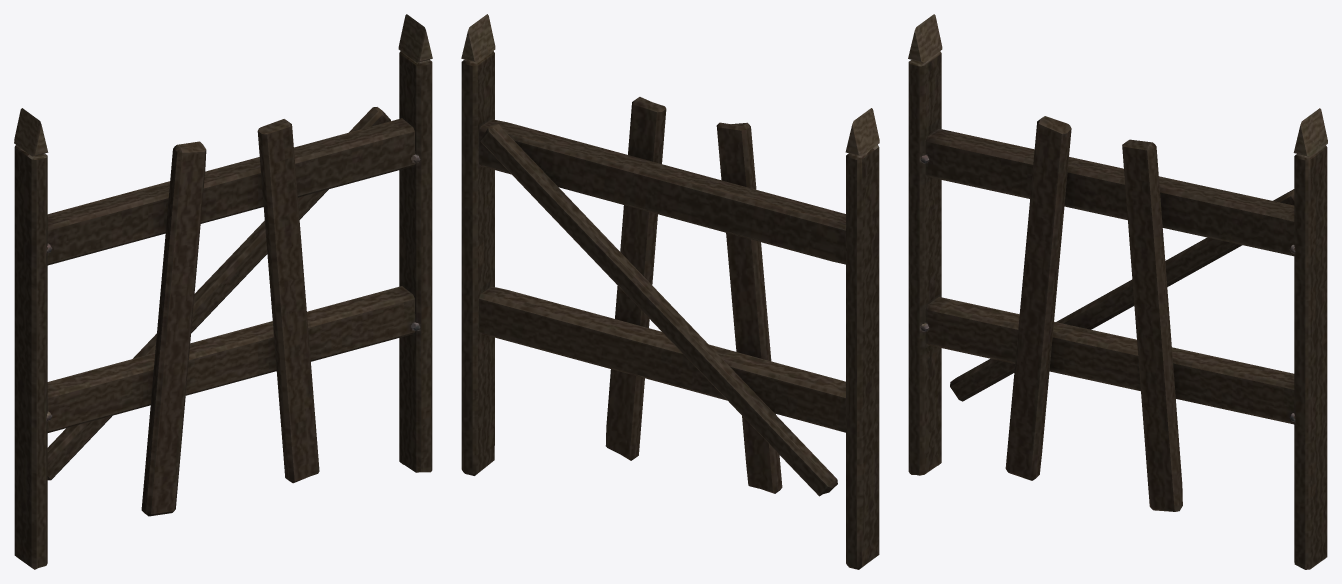
The model's file is fence.glb.
The picture shows the model from 3 angles, left to right: view 1: azimuth 30°, elevation 25°; view 2: azimuth 150°, elevation 25°; view 3: azimuth 330°, elevation 25°; orthographic projection.
Parts seen in each view (by area): view 1: fence; view 2: fence; view 3: fence.
Part boxes in pixels (bbox=[...]): fence: bbox=[14, 14, 432, 569]; fence: bbox=[461, 14, 879, 569]; fence: bbox=[908, 14, 1327, 569].
Size of the model in its own units: 1 by 1.07 by 0.1525.
1 material, 1 textured.
